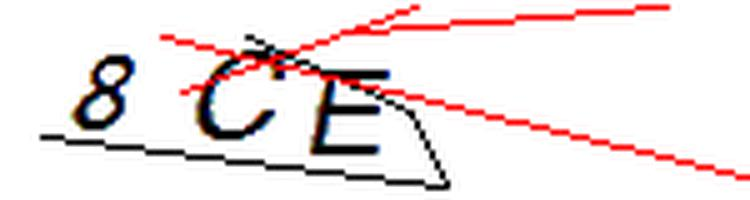8: (65, 48, 141, 138)
C: (186, 38, 295, 146)
E: (301, 63, 397, 163)
